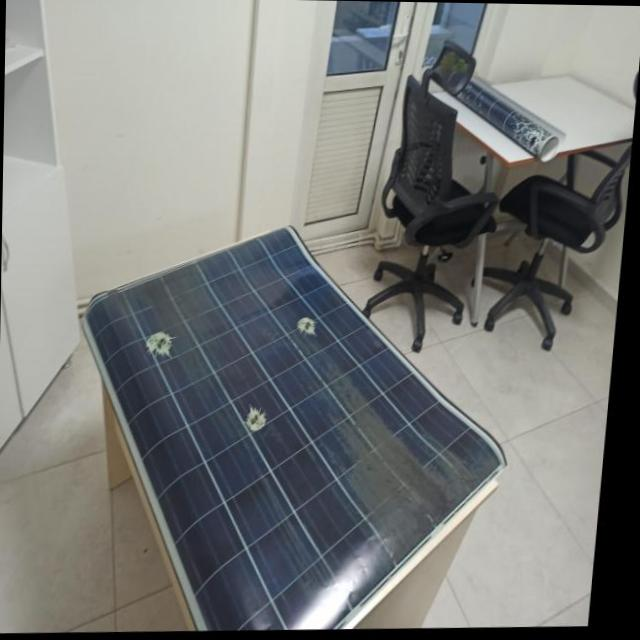faulty: (77, 224, 516, 638)
